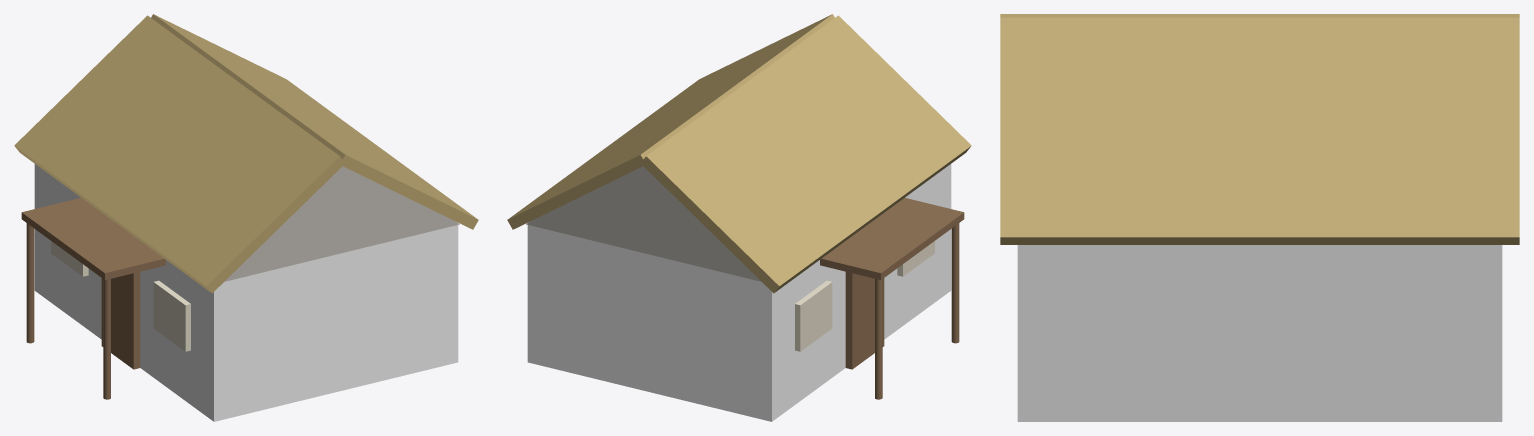
File: Cabin.glb
3 renders of one model, left to right at view 1: azimuth 30°, elevation 25°; view 2: azimuth 150°, elevation 25°; view 3: azimuth 270°, elevation 25°, orthographic. The views are drawn at different scales.
Parts seen in each view (by area): view 1: CabinRoof1, CabinBody, Gable.Cabin.R, CabinRoof2, CabinPortico, CabinDoor, CabinWindow2, CabinPost1, CabinPost2, CabinWindow1; view 2: CabinRoof1, CabinBody, Gable.Cabin.L, CabinRoof2, CabinPortico, CabinDoor, CabinWindow1, CabinPost2, CabinPost1, CabinWindow2; view 3: CabinRoof2, CabinBody, CabinRoof1.
Part boxes in pixels (box(x1,y1,x2,y2)): CabinRoof1: box(14, 15, 345, 293); CabinBody: box(34, 164, 458, 421); Gable.Cabin.R: box(224, 166, 459, 281); CabinRoof2: box(151, 14, 478, 229); CabinPortico: box(21, 198, 165, 279); CabinDoor: box(101, 271, 140, 369); CabinWindow2: box(153, 280, 190, 351); CabinPost1: box(26, 223, 34, 343); CabinPost2: box(103, 279, 110, 399); CabinWindow1: box(51, 241, 88, 276); CabinRoof1: box(640, 15, 971, 293); CabinBody: box(527, 164, 951, 421); Gable.Cabin.L: box(526, 166, 761, 281); CabinRoof2: box(507, 14, 834, 229); CabinPortico: box(820, 198, 964, 279); CabinDoor: box(845, 271, 884, 369); CabinWindow1: box(795, 280, 832, 351); CabinPost2: box(951, 223, 959, 343); CabinPost1: box(875, 279, 882, 399); CabinWindow2: box(897, 241, 934, 276); CabinRoof2: box(1000, 17, 1519, 244); CabinBody: box(1017, 245, 1502, 421); CabinRoof1: box(1000, 14, 1519, 17).
Size of the model in its own units: 5.75 by 4.15 by 6.
